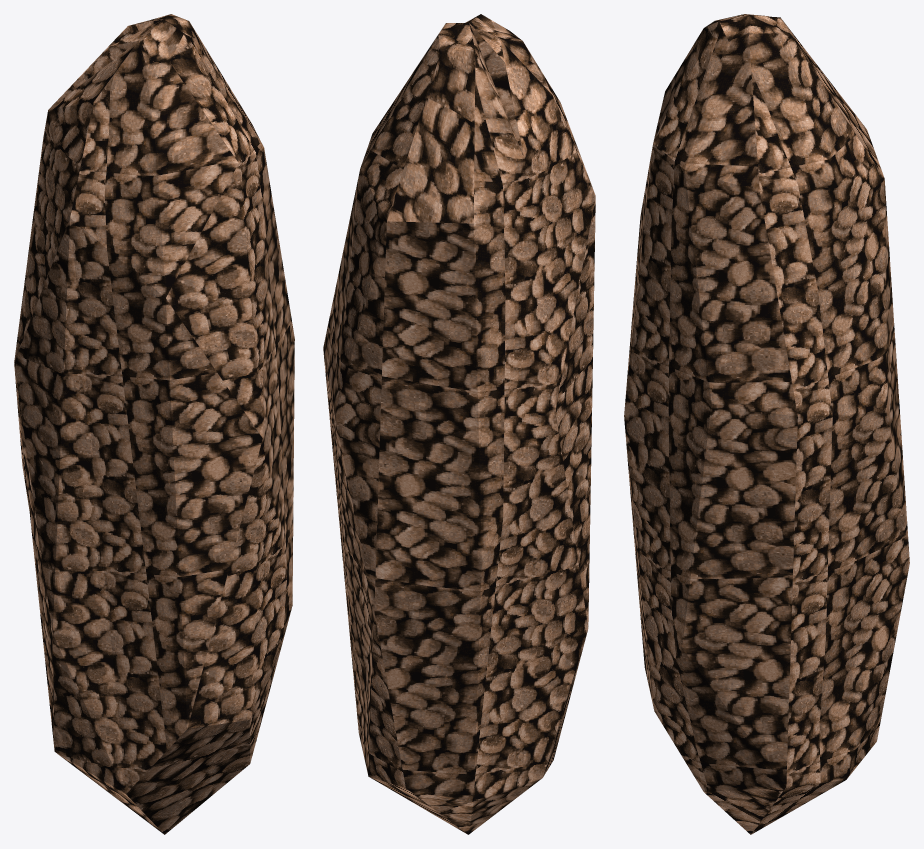
File: SM_Crockett.fbx
3 renders of one model, left to right at view 1: azimuth 30°, elevation 25°; view 2: azimuth 150°, elevation 25°; view 3: azimuth 270°, elevation 25°, orthographic.
Visible parts, largest first — view 1: Cylinder.001; view 2: Cylinder.001; view 3: Cylinder.001.
Part boxes in pixels (x1,y1,x2,y2): Cylinder.001: [14, 14, 294, 834]; Cylinder.001: [323, 14, 595, 834]; Cylinder.001: [624, 14, 909, 834].
Bounding box in the file's own units: 57.92 × 187 × 59.15.
